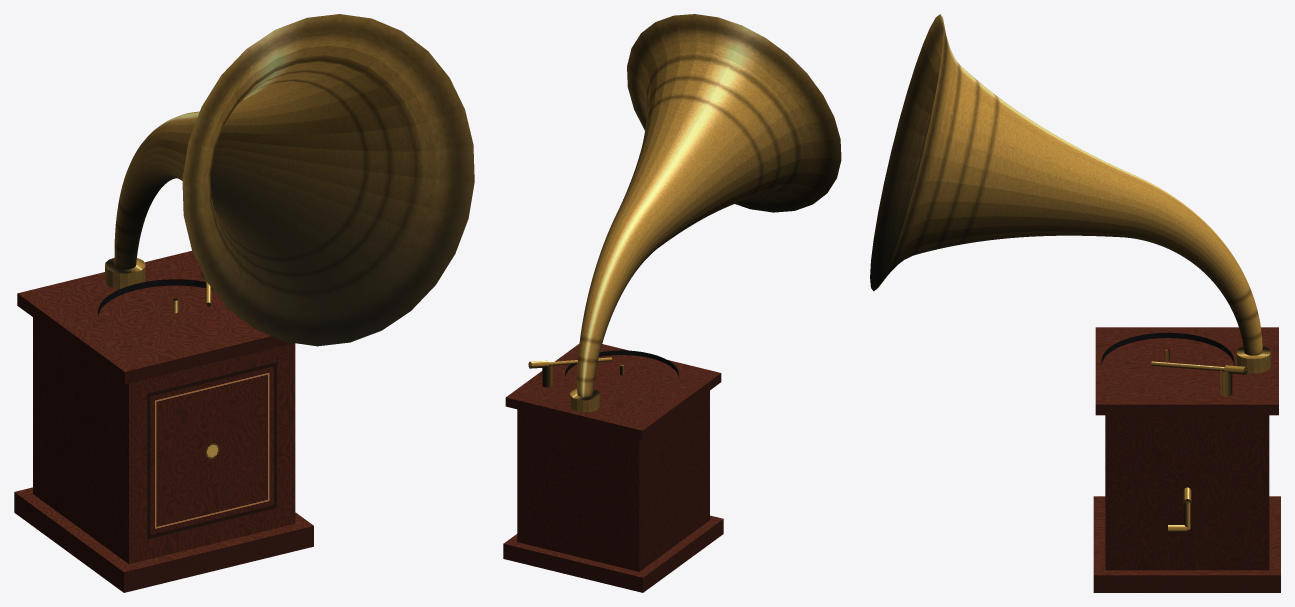
File: gramophone.obj
3 views of the same model, side by side, from view 1: azimuth 30°, elevation 25°; view 2: azimuth 150°, elevation 25°; view 3: azimuth 270°, elevation 25° (orthographic). The views are drawn at different scales.
Parts seen in each view (by area): view 1: gramophone; view 2: gramophone; view 3: gramophone.
Boxes of the visible parts, x1,y1,x2,y2 form: gramophone: (14, 14, 474, 592); gramophone: (503, 14, 841, 592); gramophone: (870, 14, 1280, 592).
Size of the model in its own units: 1.46 by 2.97 by 2.11.
5 materials, 5 textured.
